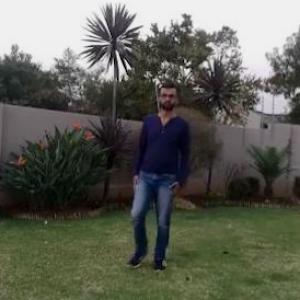follow: (133, 91, 183, 257)
